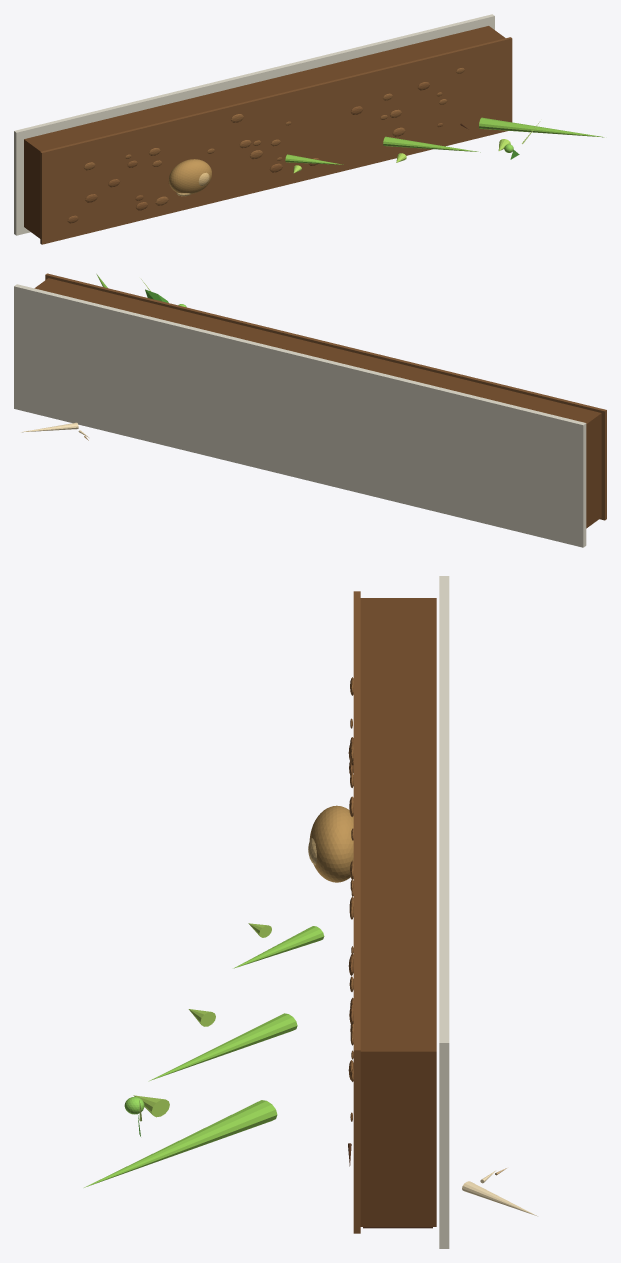
File: germinacao_sementes_AR_REALISTA_V3.glb
3 views of the same model, one above another, from view 1: azimuth 30°, elevation 25°; view 2: azimuth 150°, elevation 25°; view 3: azimuth 270°, elevation 25° (orthographic). The views are drawn at different scales.
Visible parts, largest first — view 1: soil_top_rim, soil_mass, display_base, world, seed, stem5, stem4; view 2: display_base, soil_mass, soil_top_rim; view 3: soil_mass, display_base, soil_top_rim, seed, stem5, stem4, world, stem3.
Boxes of the visible parts, x1,y1,x2,y2 form: soil_top_rim: (40,37,512,244); soil_mass: (24,26,505,238); display_base: (14,14,494,235); world: (67,68,464,223); seed: (169,159,211,194); stem5: (479,117,604,137); stem4: (383,136,480,152); display_base: (14,284,586,547); soil_mass: (34,278,601,528); soil_top_rim: (45,273,606,520); soil_mass: (360,598,436,1226); display_base: (439,576,449,1248); soil_top_rim: (353,591,360,1233); seed: (309,805,353,882); stem5: (84,1100,277,1187); stem4: (148,1013,297,1081); world: (348,677,353,1121); stem3: (233,926,324,968).
Size of the model in its own units: 9.27 by 1.82 by 3.66.
